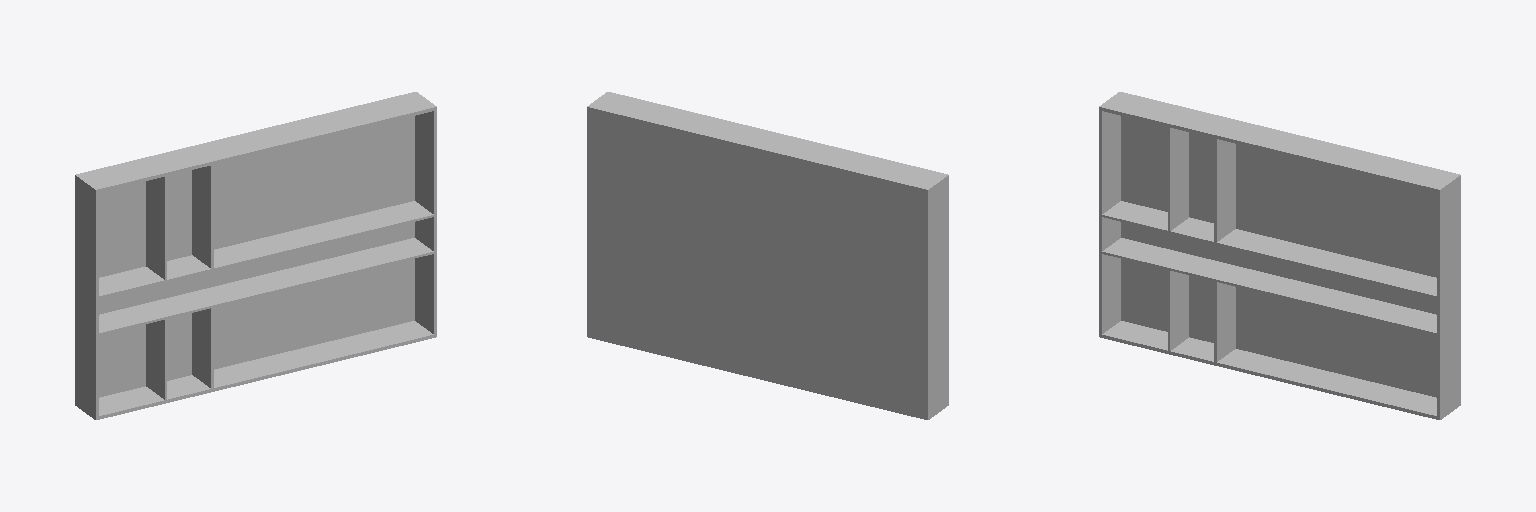
File: casa2.obj
3 renders of one model, left to right at view 1: azimuth 30°, elevation 25°; view 2: azimuth 150°, elevation 25°; view 3: azimuth 330°, elevation 25°, orthographic.
Bounding box in the file's own units: 31 × 20 × 3.3.